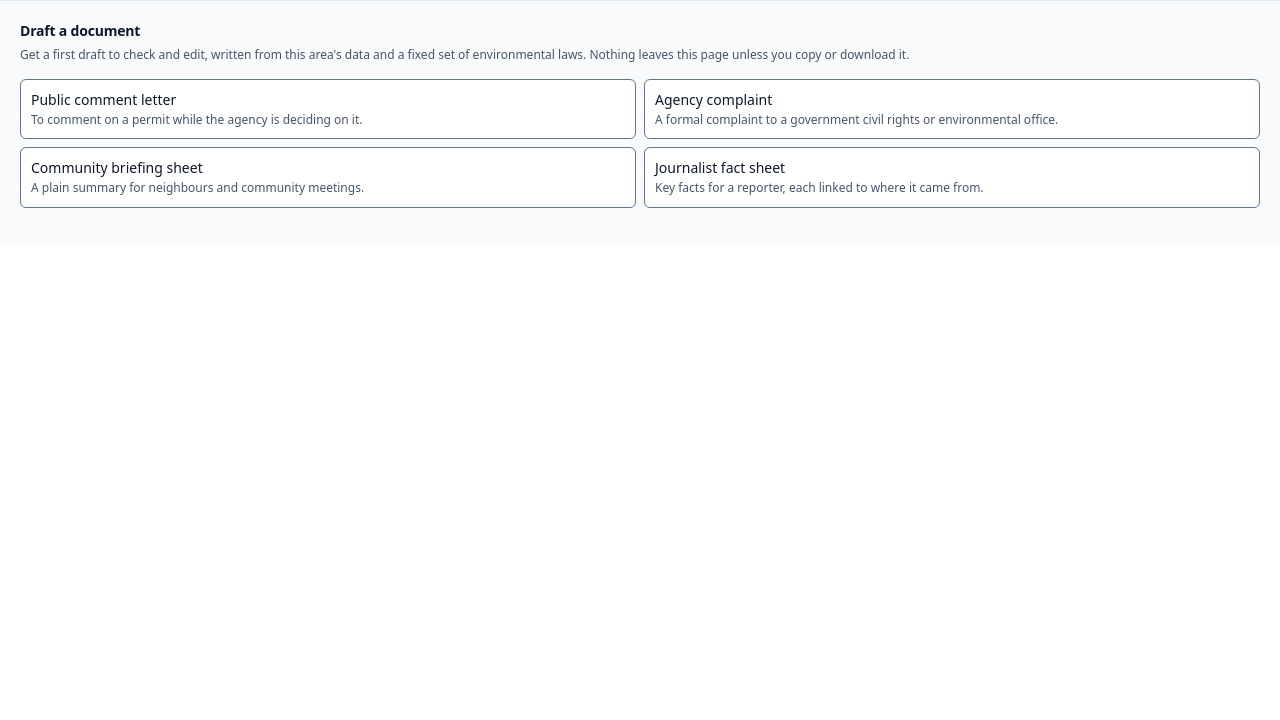
choosing a document › says what is happening while it generates
Click the text "Public comment letter".
click(104, 99)  # box [31,90,176,108]
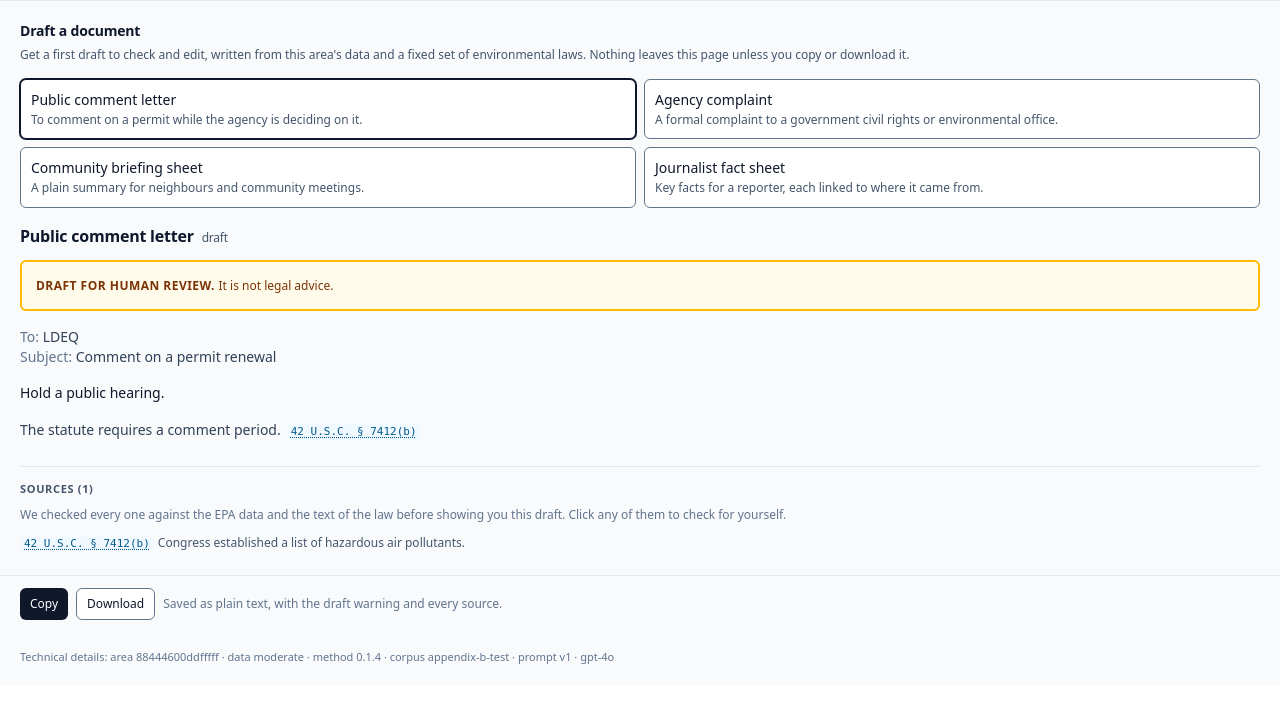
Check: the text "Draft for human review." is shown, box [36,276,218,294]
